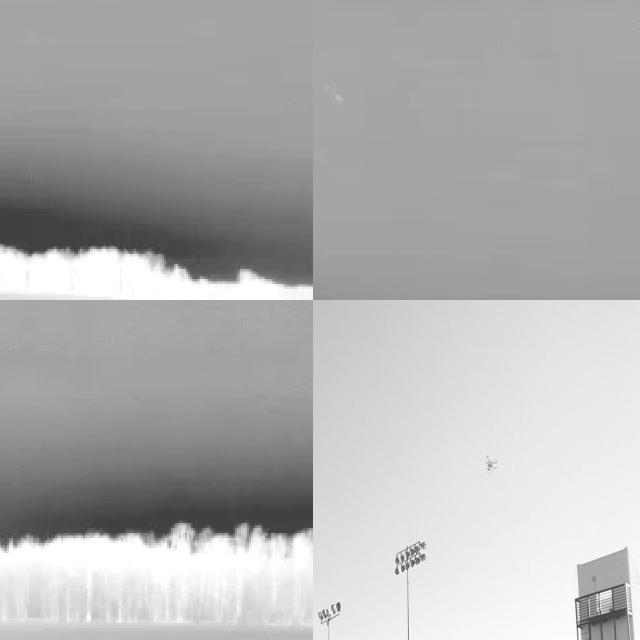0: (326, 85, 354, 115)
drone: (482, 456, 506, 481)
